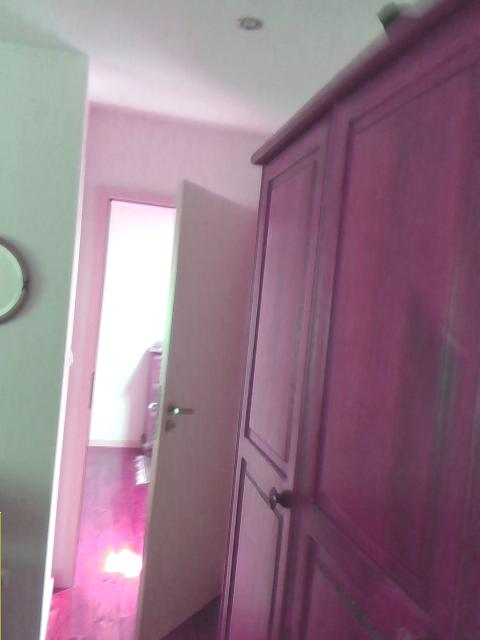semi_door: (68, 168, 258, 639)
